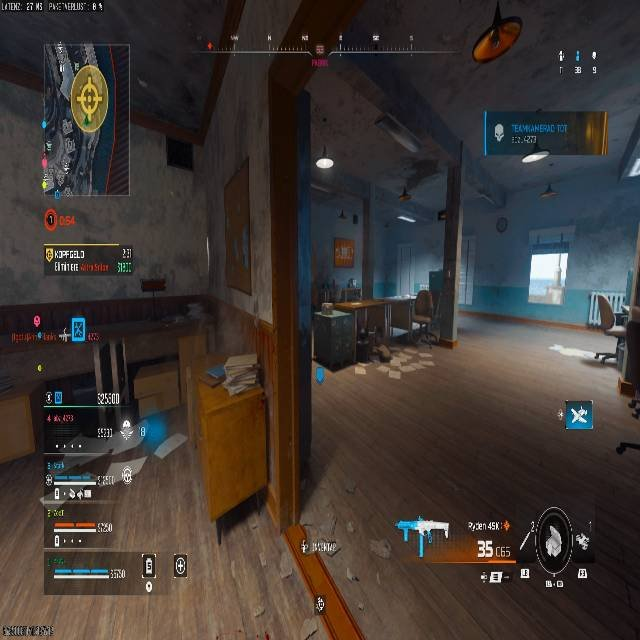player: (614, 294, 639, 457)
